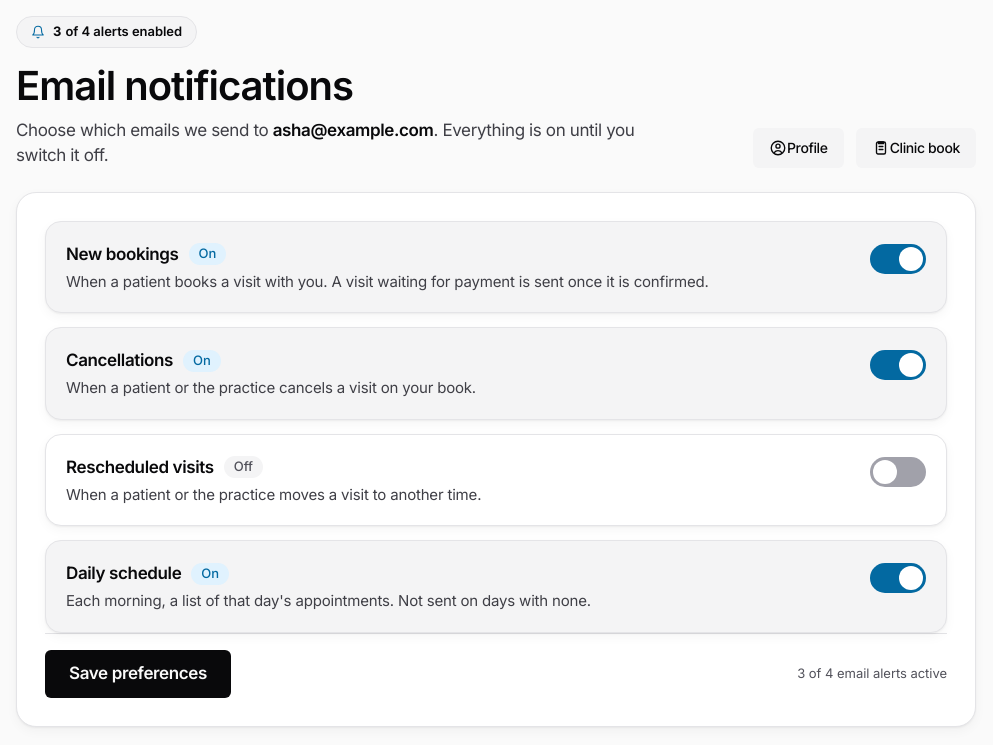
Test case: Doctor Dashboard Redesign › DoctorNotificationsWorkspace syncs SquishSwitch toggles with form checkboxes
Click the switch named "Rescheduled visits": (898, 472) [870,457,926,487]
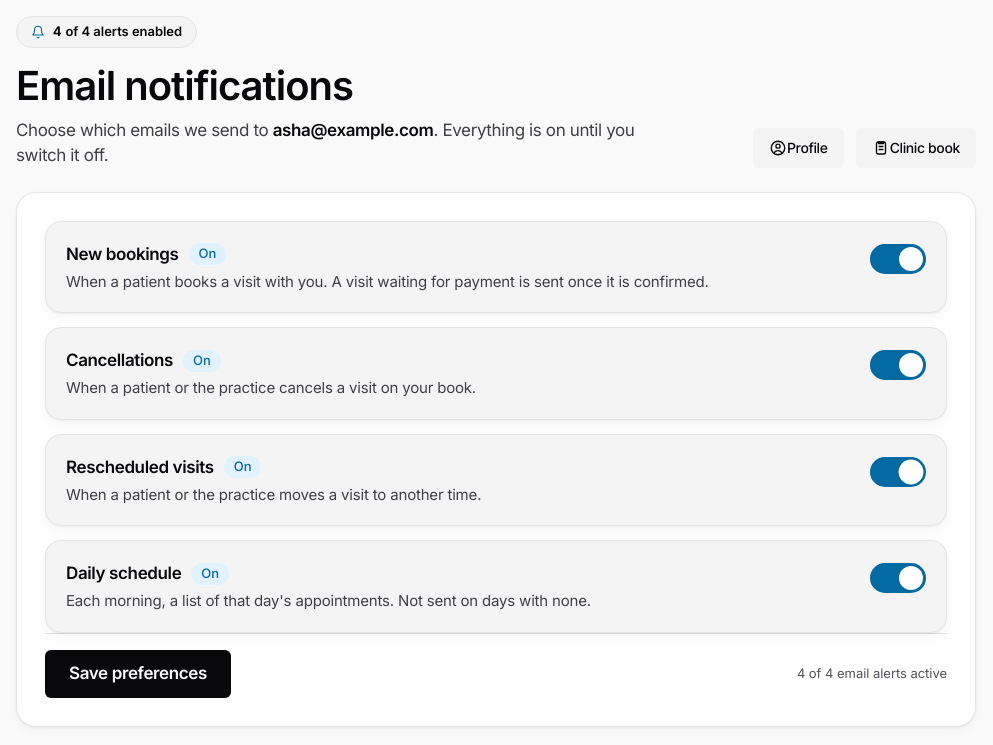
Now the checkbox named "rescheduled" is checked, box [870,455,926,494]
